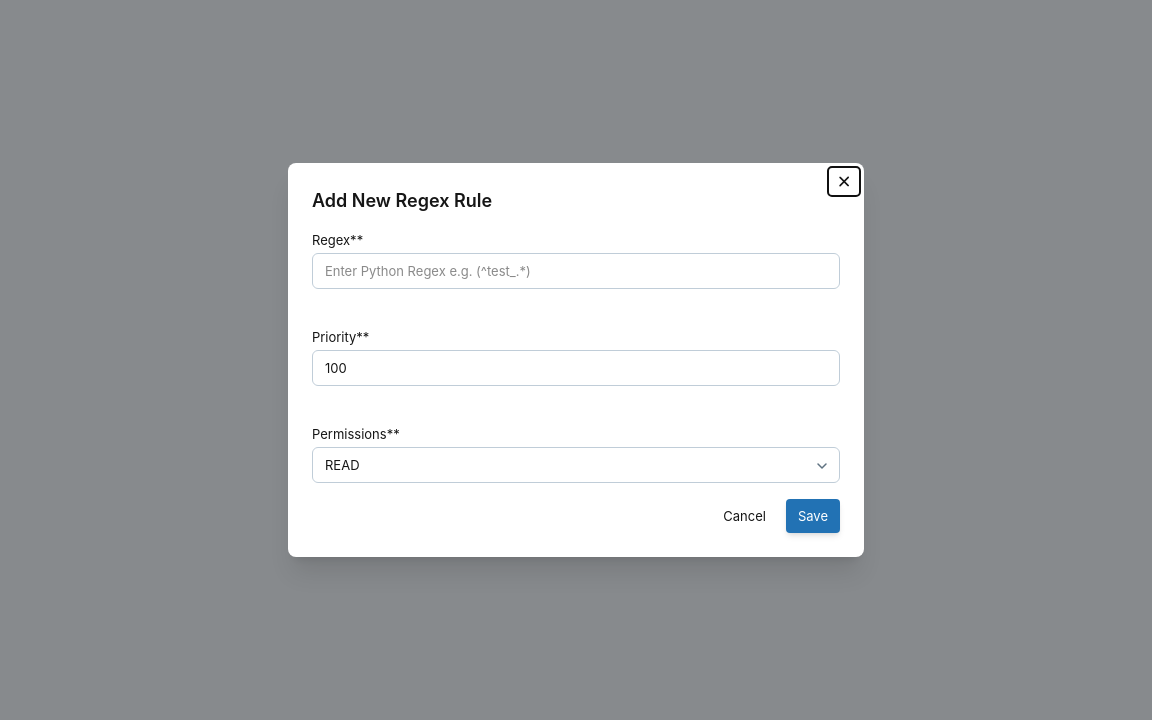
AddRegexRuleModal › validates regex input
Type "[" into the field labelled "Regex**" at (576, 271), box x1=312 y1=253 x2=840 y2=289
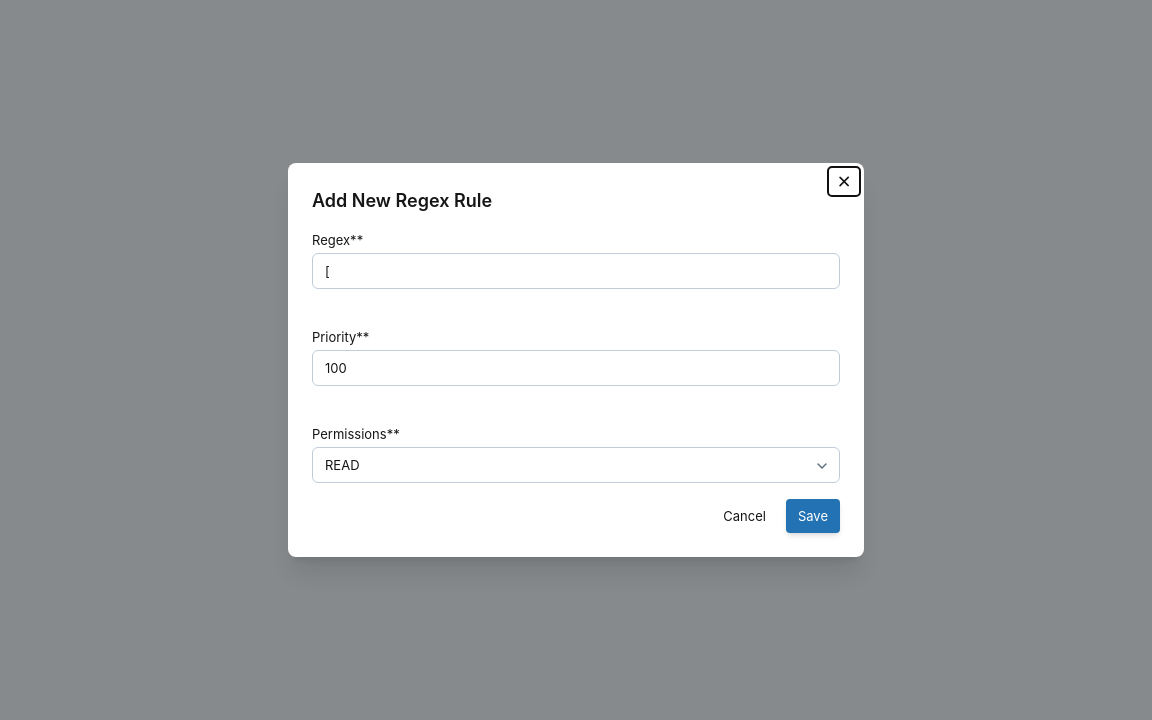
Click the button "Save" at (813, 516), box x1=786 y1=499 x2=840 y2=533
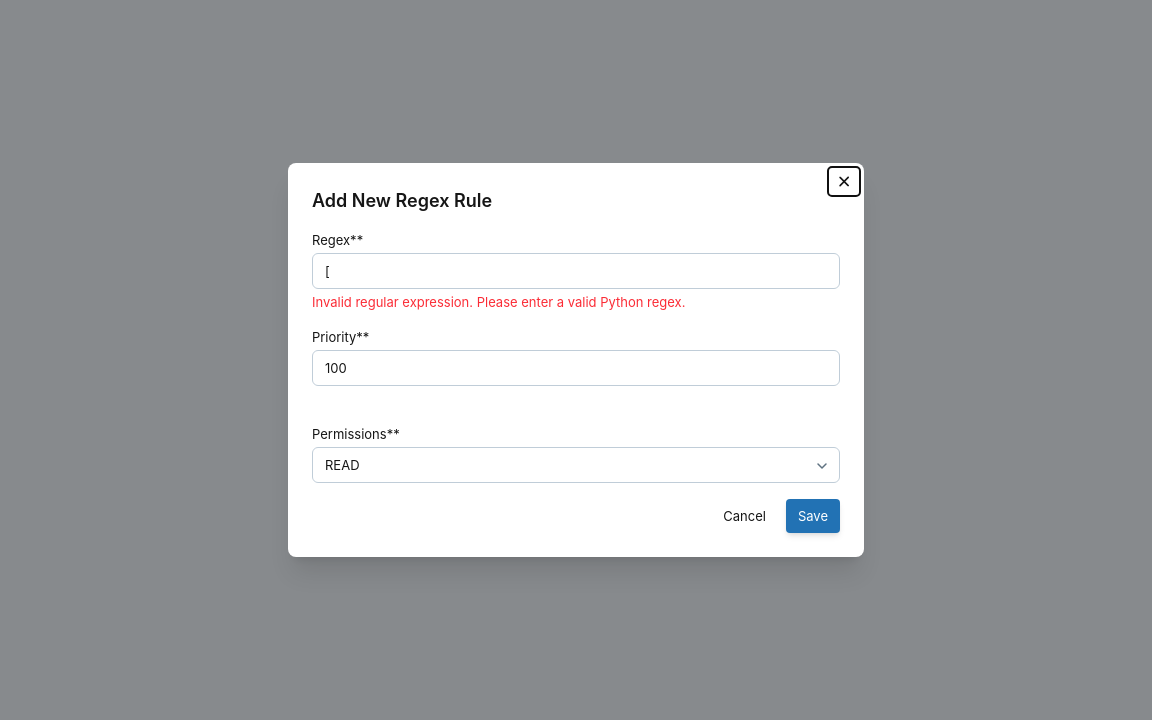
Result: the text "Invalid regular expression. Please enter a valid Python regex." is shown at x1=312 y1=294 x2=685 y2=310
